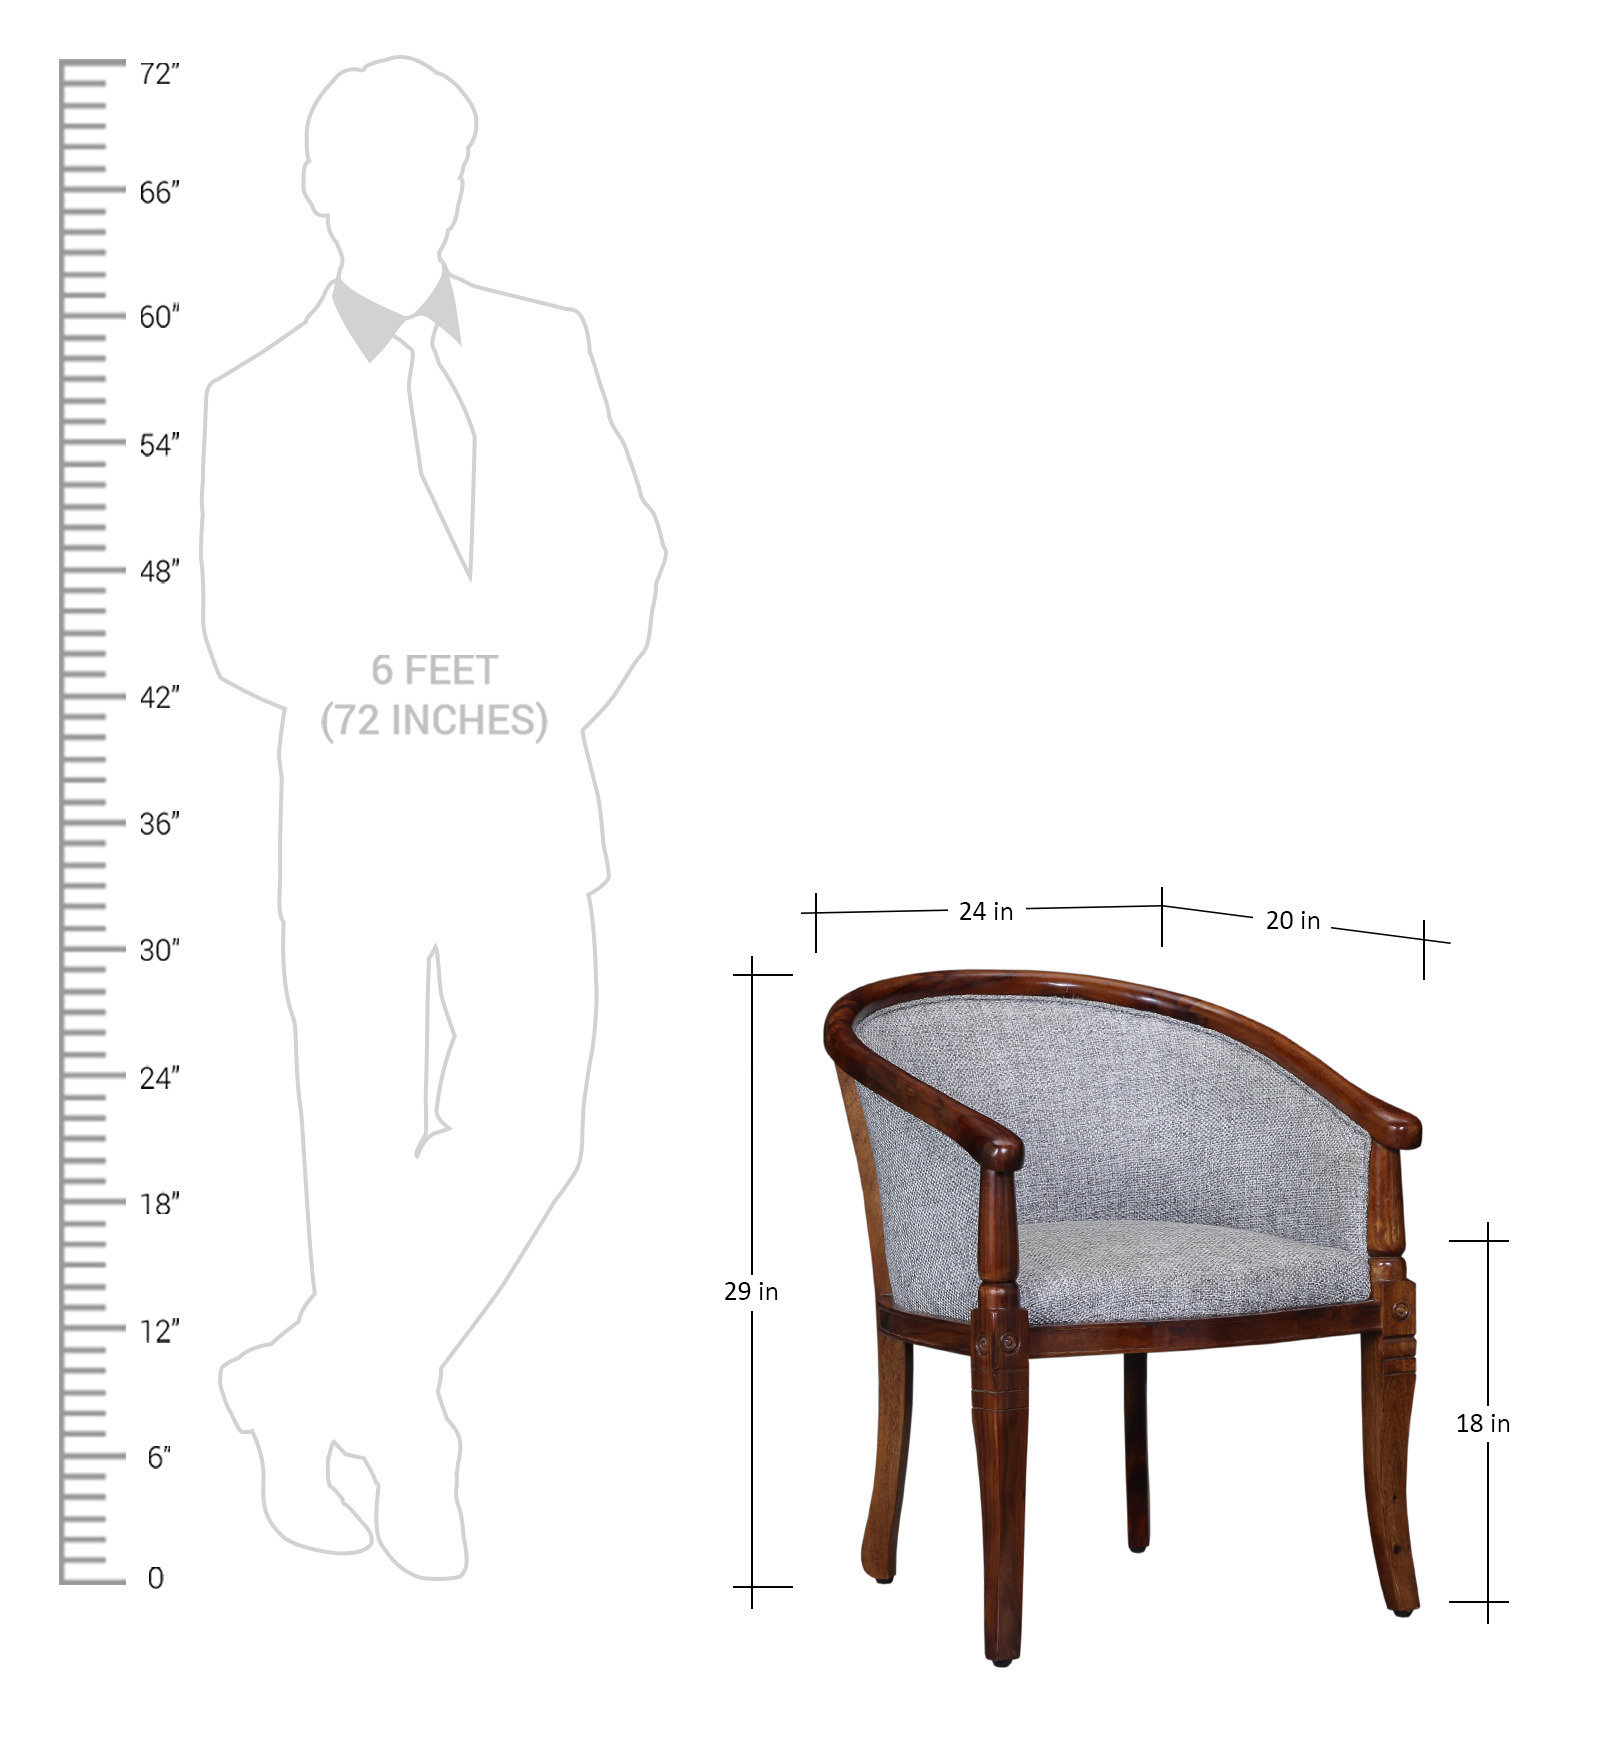Stalley Arm Chair in Grey Color with Honey Oak Finish by Amberville: (818, 946, 1433, 1694)
